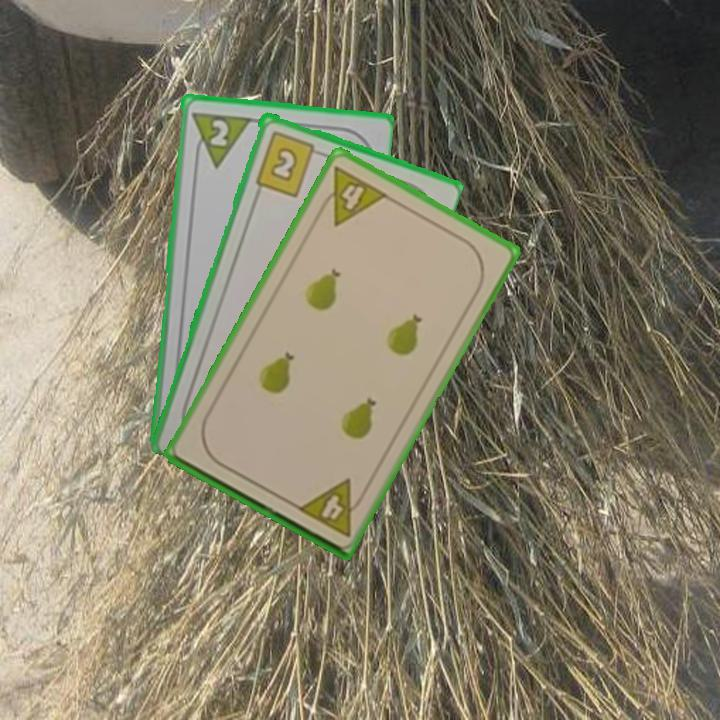2b: (251, 127, 325, 199)
2p: (187, 108, 252, 170)
4p: (312, 162, 391, 229), (293, 475, 370, 540)
